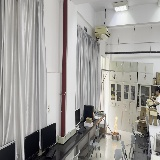fire: (112, 115, 118, 135)
